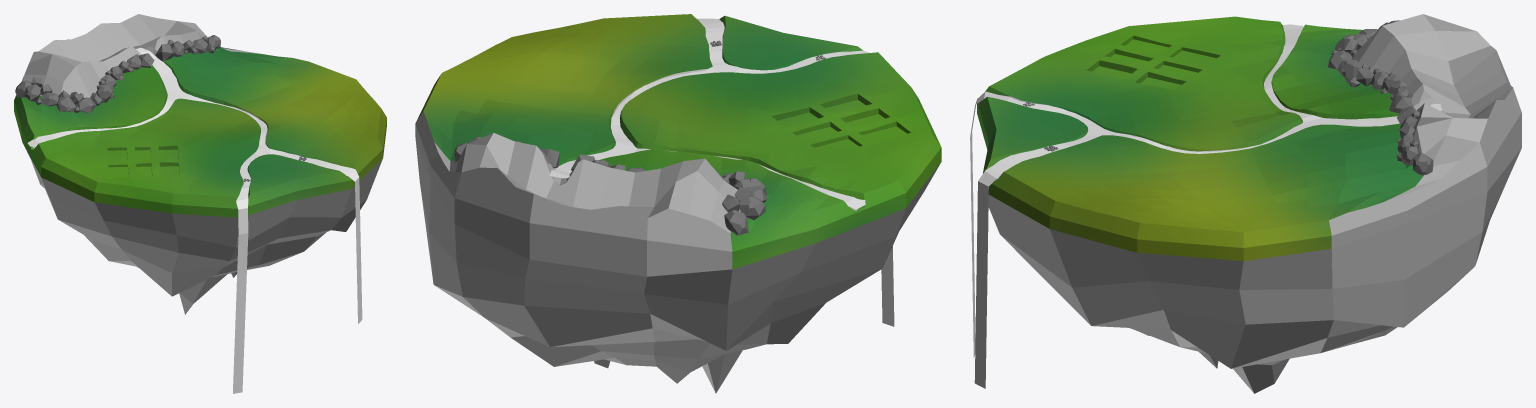
The model's file is Island.fbx.
The picture shows the model from 3 angles, left to right: view 1: azimuth 30°, elevation 25°; view 2: azimuth 150°, elevation 25°; view 3: azimuth 270°, elevation 25°; orthographic projection. The views are drawn at different scales.
Visible parts, largest first — view 1: Top_Island_without_mod.001; view 2: Top_Island_without_mod.001; view 3: Top_Island_without_mod.001.
Part boxes in pixels (box(x1,y1,x2,y2)): Top_Island_without_mod.001: box(14, 14, 386, 393); Top_Island_without_mod.001: box(415, 14, 941, 393); Top_Island_without_mod.001: box(970, 14, 1521, 393).
Size of the model in its own units: 16768 by 11371 by 17572.
